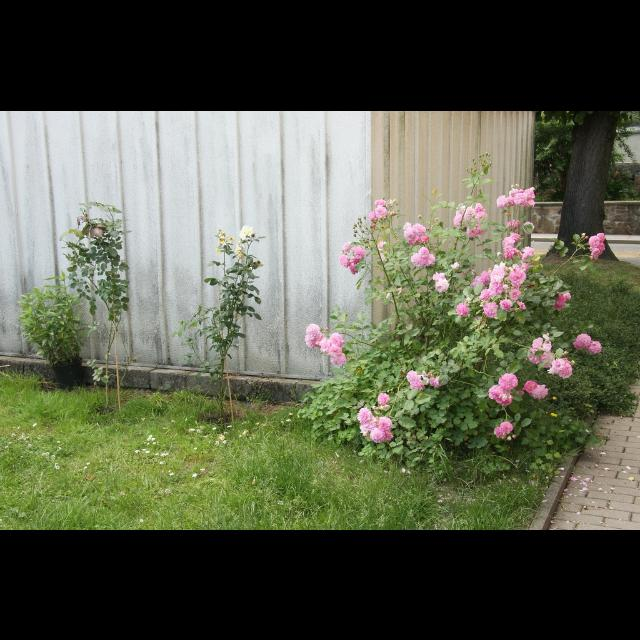Flower: (454, 219, 536, 315), (354, 392, 392, 442), (304, 322, 346, 364), (534, 334, 574, 374), (454, 202, 488, 235), (336, 240, 364, 274), (489, 372, 516, 404), (496, 185, 532, 207), (402, 217, 431, 241), (218, 230, 242, 258), (408, 368, 440, 388), (368, 194, 388, 222), (588, 230, 606, 260), (576, 330, 602, 350), (520, 379, 548, 397), (412, 248, 438, 264), (432, 272, 450, 290), (494, 421, 512, 435), (235, 221, 252, 235), (554, 292, 570, 306), (376, 240, 384, 250)
